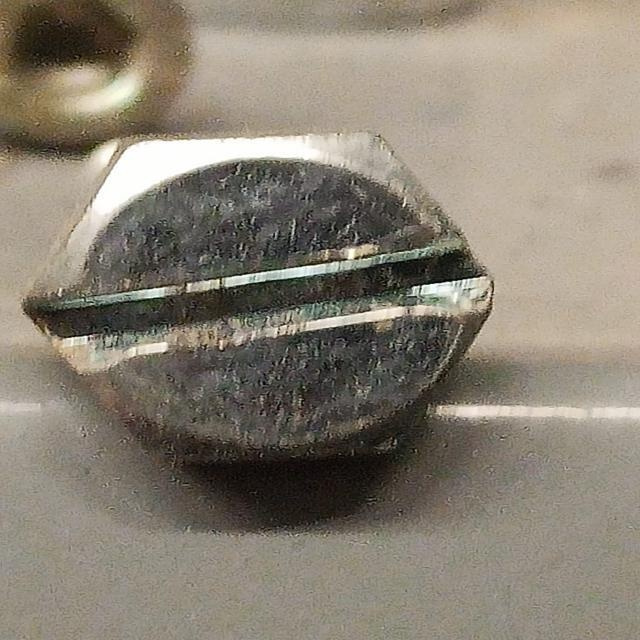duz: (22, 128, 498, 469)
